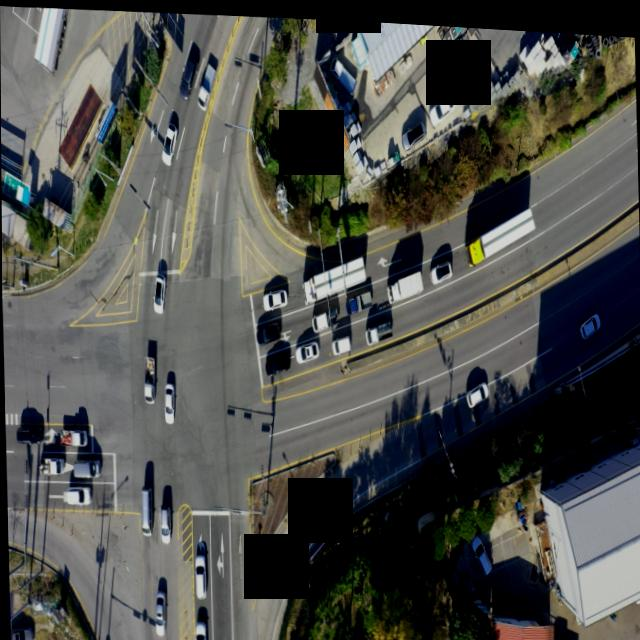car: (428, 82, 455, 123), (176, 50, 196, 99), (468, 529, 489, 571), (158, 120, 175, 165), (402, 111, 426, 141), (429, 252, 454, 280), (140, 485, 154, 534), (255, 315, 281, 341), (15, 425, 42, 450), (464, 372, 486, 401), (71, 456, 100, 478), (191, 550, 204, 596), (295, 335, 319, 359), (265, 349, 290, 372), (64, 484, 90, 506), (578, 302, 598, 330), (263, 284, 287, 307), (151, 272, 164, 313), (153, 589, 164, 633), (157, 502, 169, 540), (163, 380, 174, 421), (331, 329, 351, 351), (9, 625, 32, 640), (193, 618, 204, 640)
medium_truck: (466, 195, 536, 263), (302, 248, 370, 304), (34, 7, 69, 73), (386, 261, 423, 300)
small_truck: (195, 59, 216, 109), (331, 53, 356, 92), (344, 284, 371, 313), (363, 311, 389, 339), (308, 302, 334, 327), (59, 425, 86, 446), (39, 456, 63, 476), (143, 360, 154, 400), (554, 631, 579, 640)
